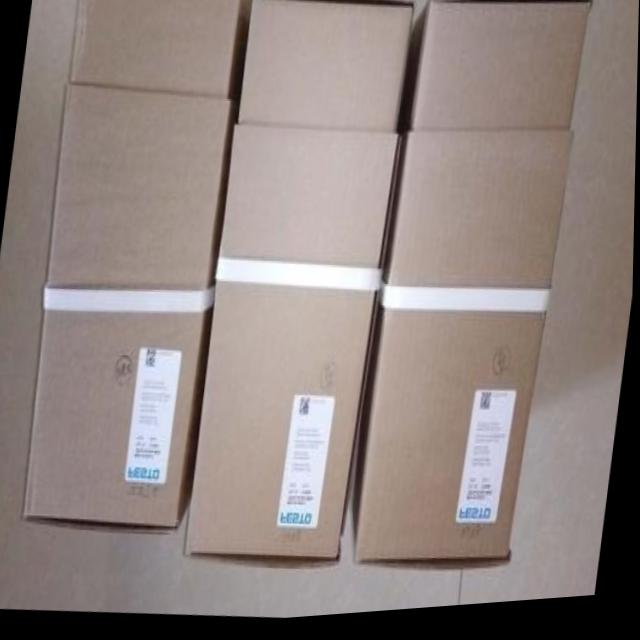box: (353, 1, 598, 569), (185, 0, 414, 568), (24, 0, 255, 534)
